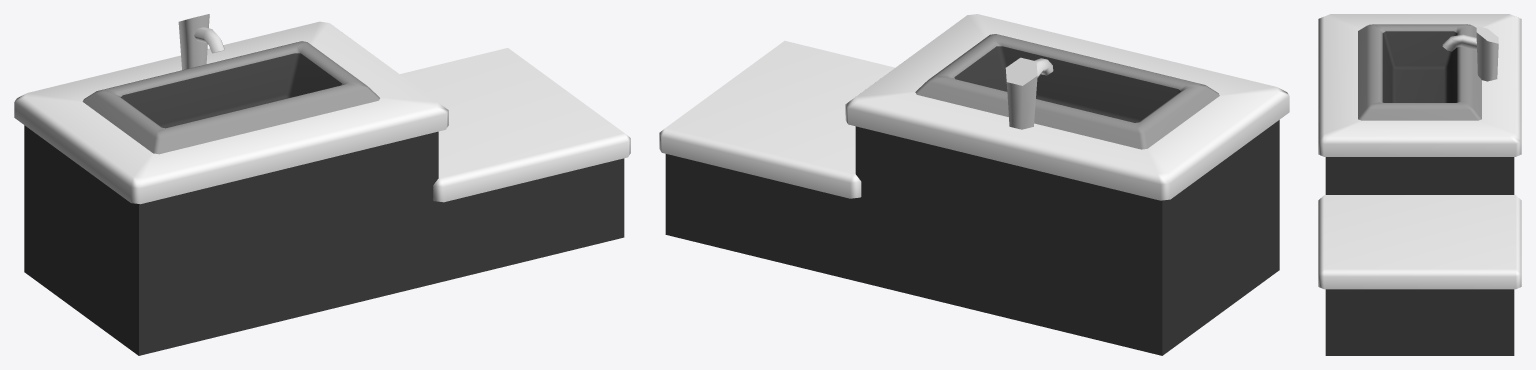
File: bathroom_013.fbx
The picture shows the model from 3 angles, left to right: view 1: azimuth 30°, elevation 25°; view 2: azimuth 150°, elevation 25°; view 3: azimuth 270°, elevation 25°; orthographic projection. The views are drawn at different scales.
Visible parts, largest first — view 1: bathroom_013; view 2: bathroom_013; view 3: bathroom_013.
Boxes of the visible parts, x1,y1,x2,y2 form: bathroom_013: (14, 14, 630, 355); bathroom_013: (659, 14, 1289, 355); bathroom_013: (1318, 14, 1521, 355).
Size of the model in its own units: 160 by 68.42 by 71.89.
